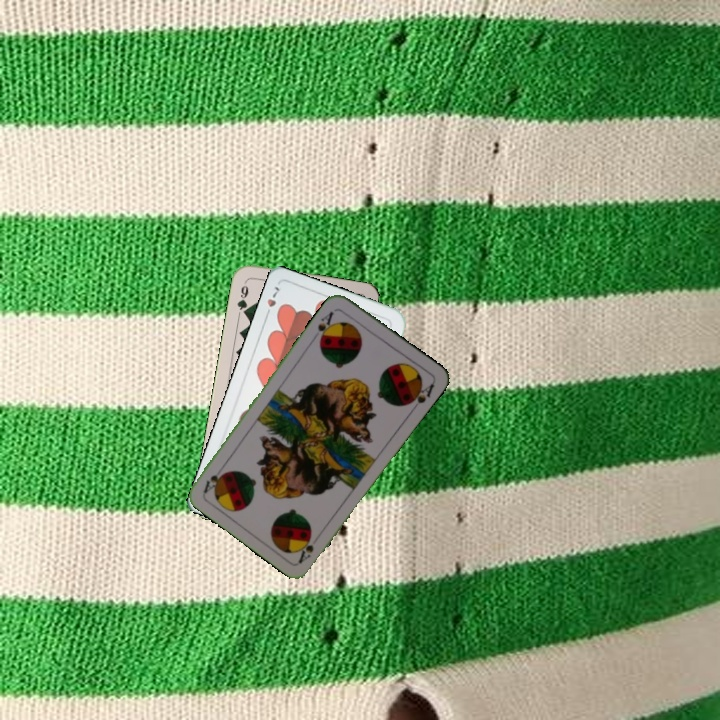G9: (233, 277, 251, 318)
H7: (261, 282, 282, 320)
SA: (313, 307, 337, 345), (294, 529, 316, 565)
